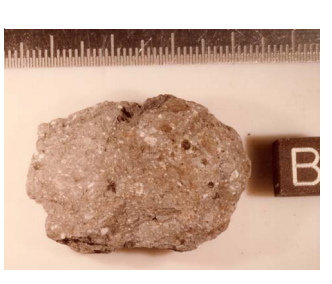Breccia: (22, 95, 268, 264)
